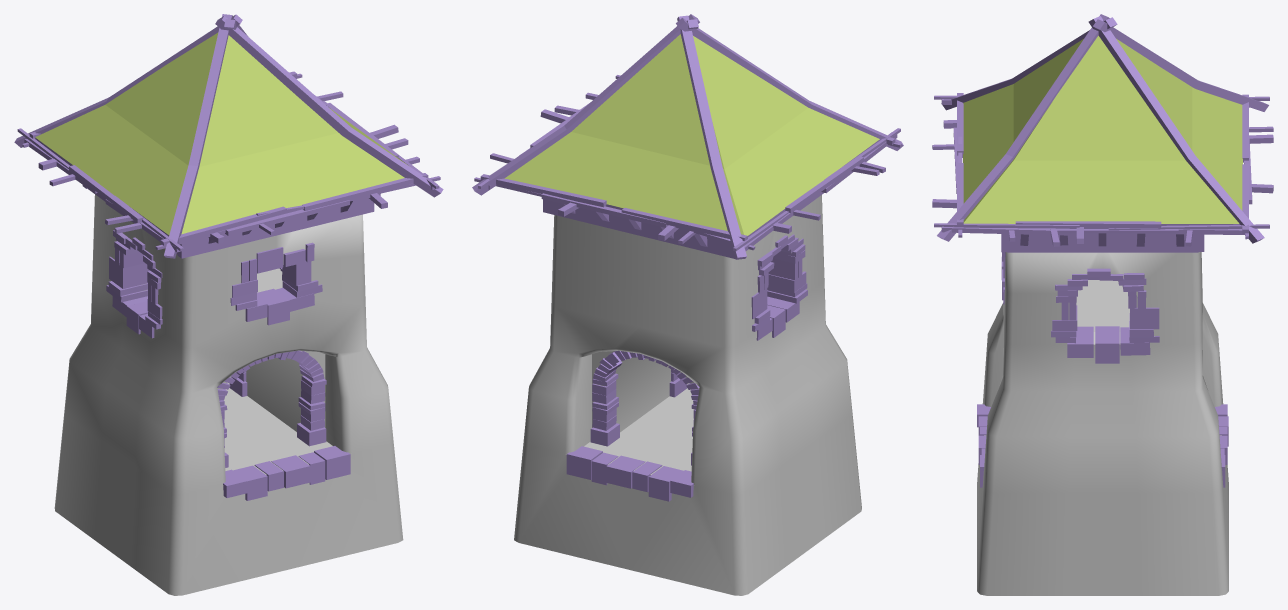
The model's file is tower_a.fbx.
3 renders of one model, left to right at view 1: azimuth 30°, elevation 25°; view 2: azimuth 150°, elevation 25°; view 3: azimuth 270°, elevation 25°, orthographic. The views are drawn at different scales.
Visible parts, largest first — view 1: Cube.048; view 2: Cube.048; view 3: Cube.048.
Boxes of the visible parts, left/top/right/bottom form: Cube.048: left=14, top=14, right=443, bottom=595; Cube.048: left=472, top=14, right=903, bottom=595; Cube.048: left=932, top=14, right=1273, bottom=595.
Size of the model in its own units: 16.91 by 26.12 by 15.57.
